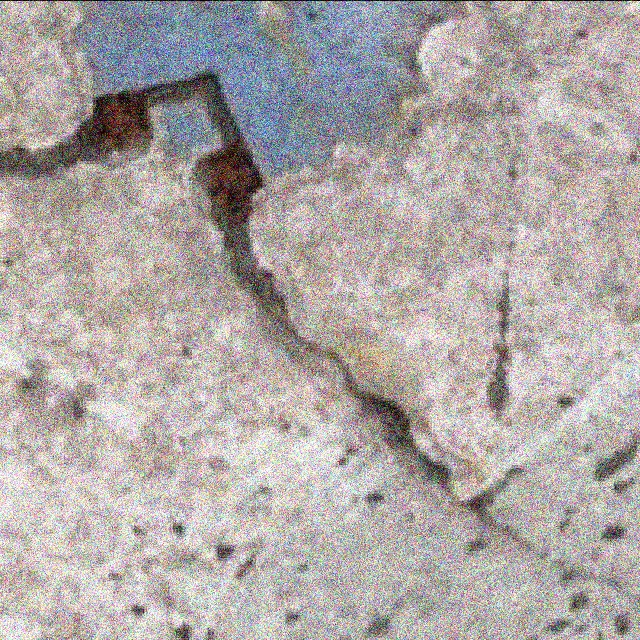SurfaceCrack: (0, 42, 512, 552)
